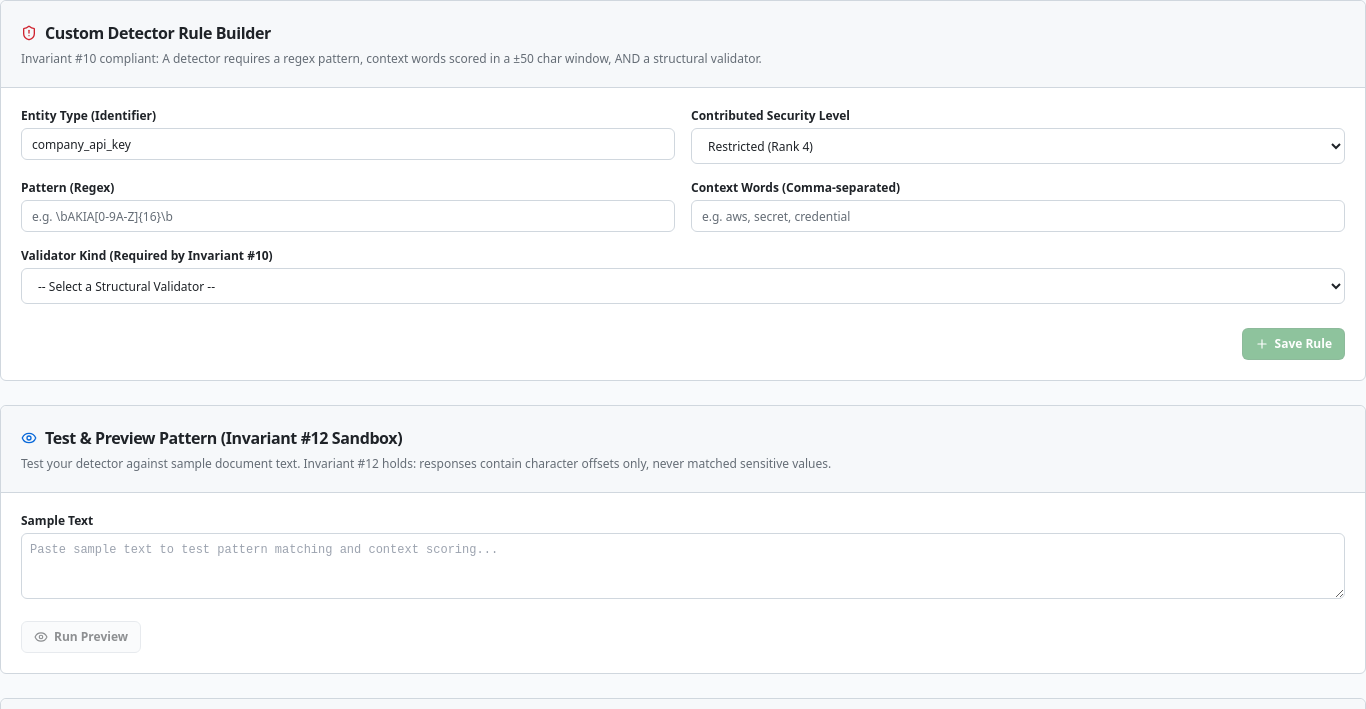
DetectorRules — invariant #10 in the form › surfaces a server pattern rejection
In the field labelled "Entity Type (Identifier)": x=348, y=144 [21, 128, 675, 160], type "company_key"
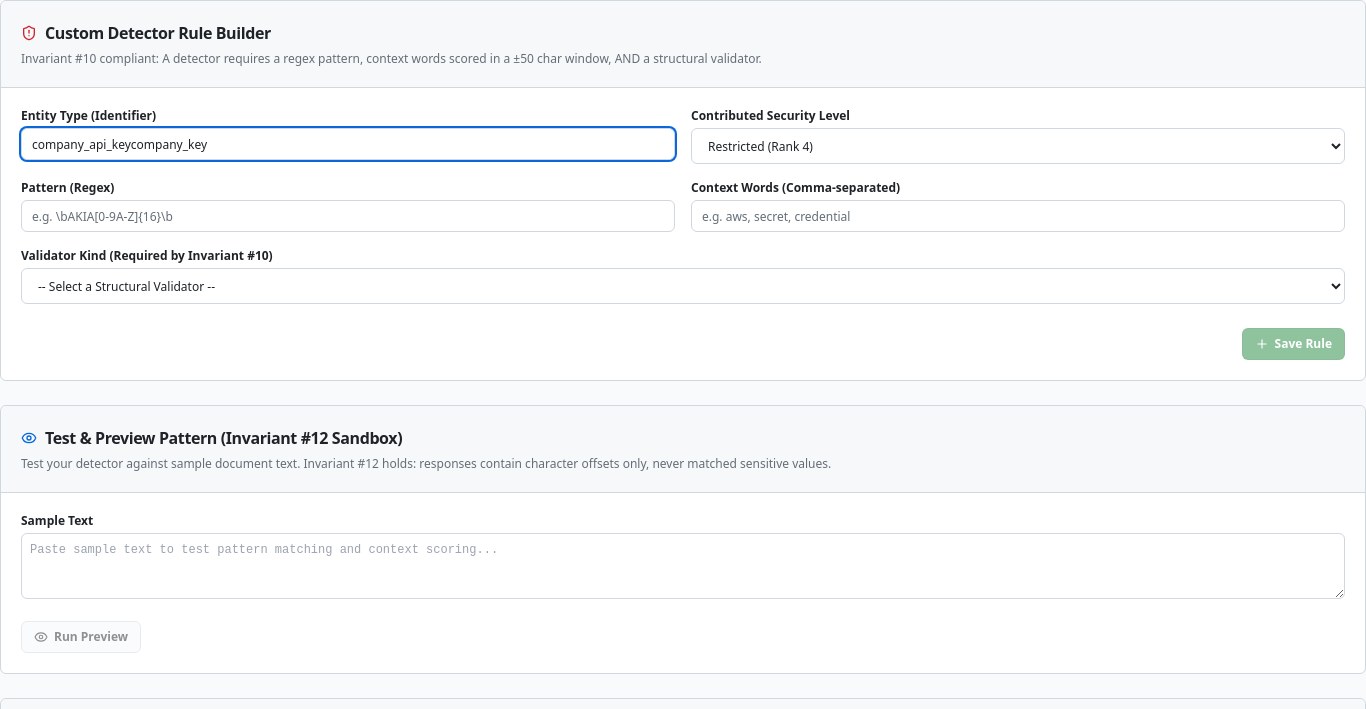
In the field labelled "Pattern (Regex)": x=348, y=216 [21, 200, 675, 232], type "(a+)+$"
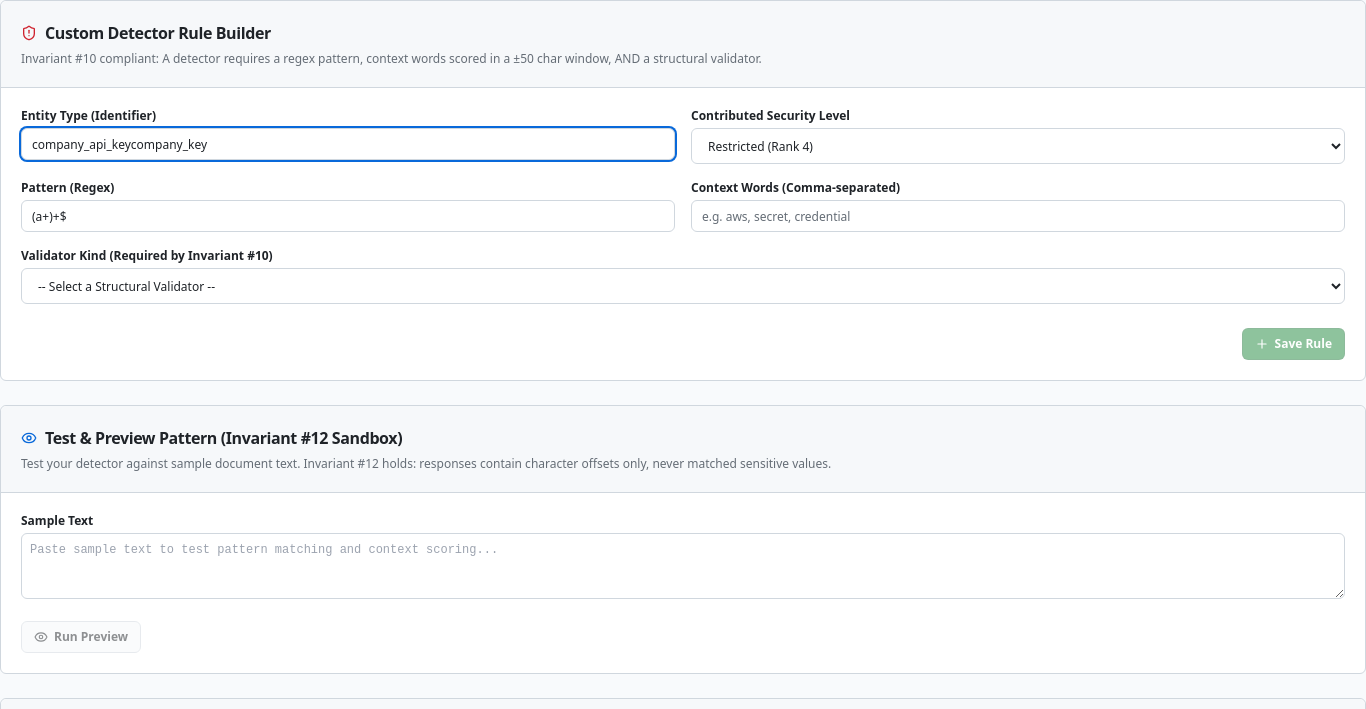
In the field labelled "Context Words (Comma-separated)": x=1018, y=216 [691, 200, 1345, 232], type "aws, secret"
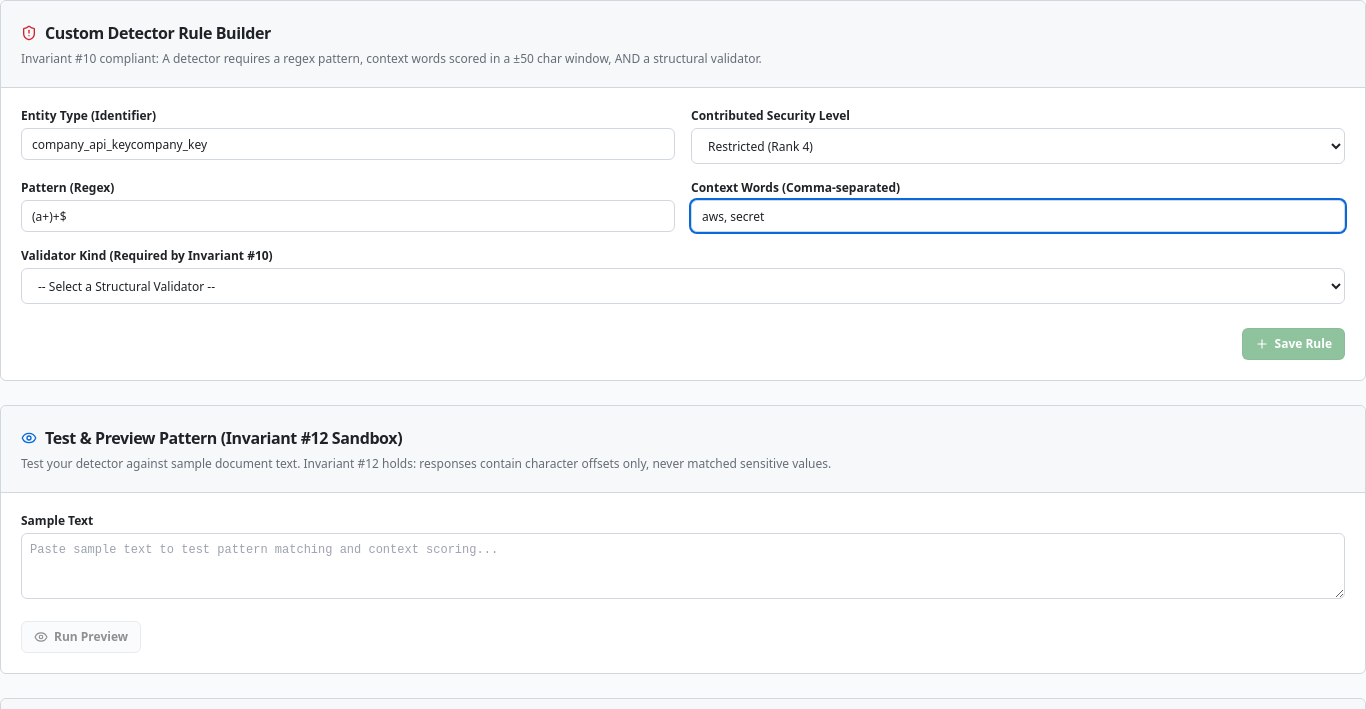
Select "Prefix & Character Set (API Keys, Tokens)" in the dropdown labelled "Validator Kind (Required by Invariant #10)": x=683, y=286 [21, 268, 1345, 304]
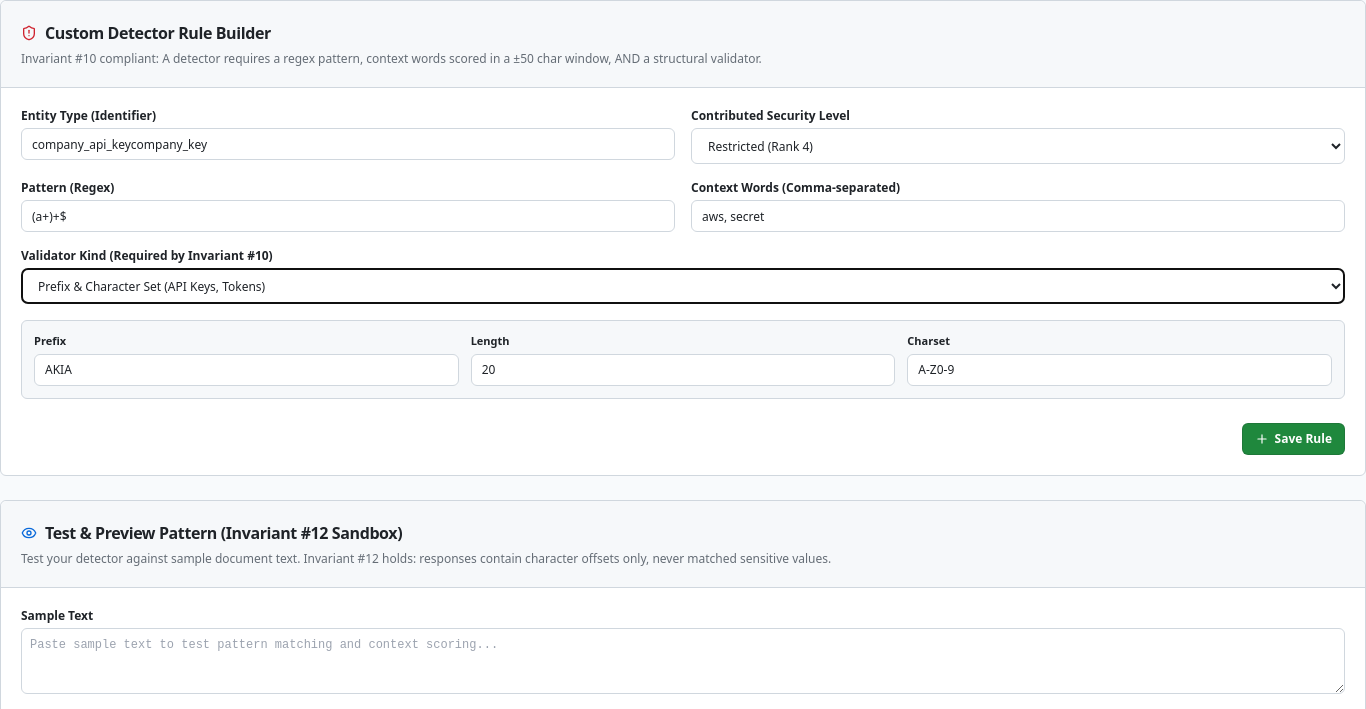
Click the button "Save Rule": x=1293, y=438 [1242, 422, 1345, 454]
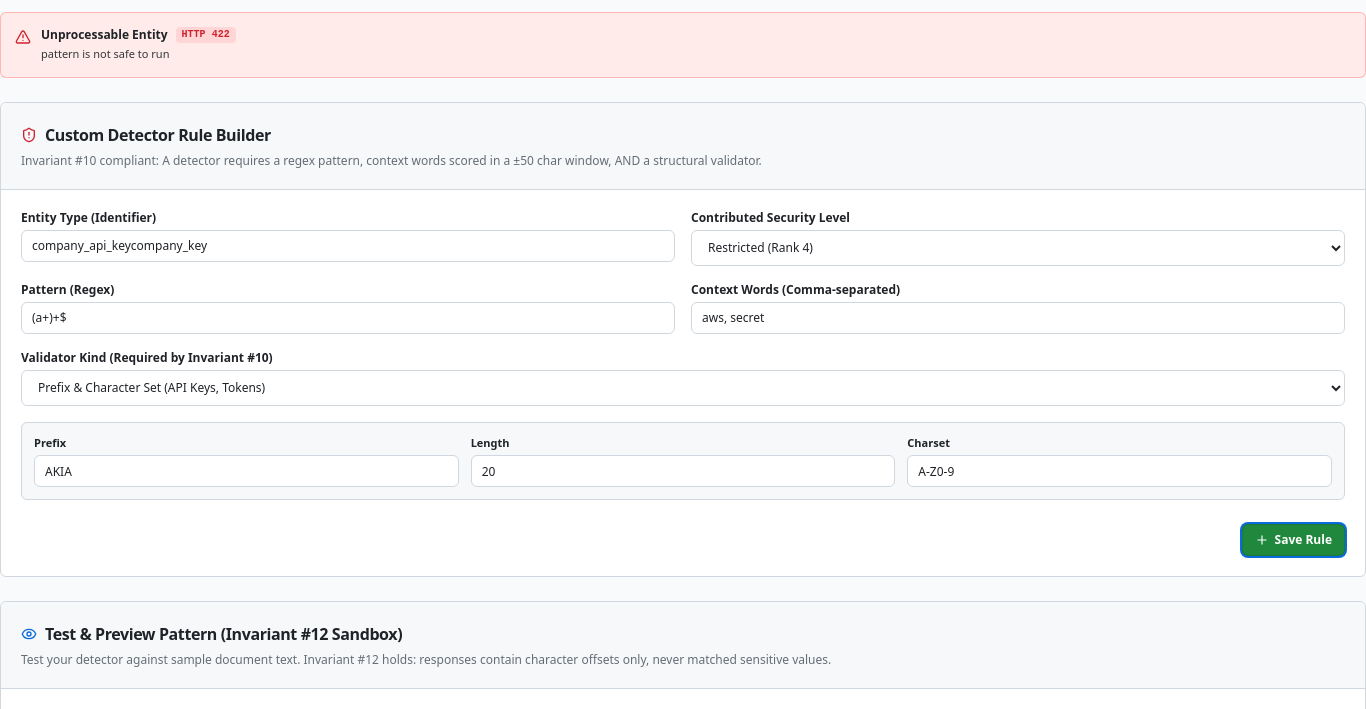
Result: the text "pattern is not safe to run" is shown at [41, 46, 170, 61]
